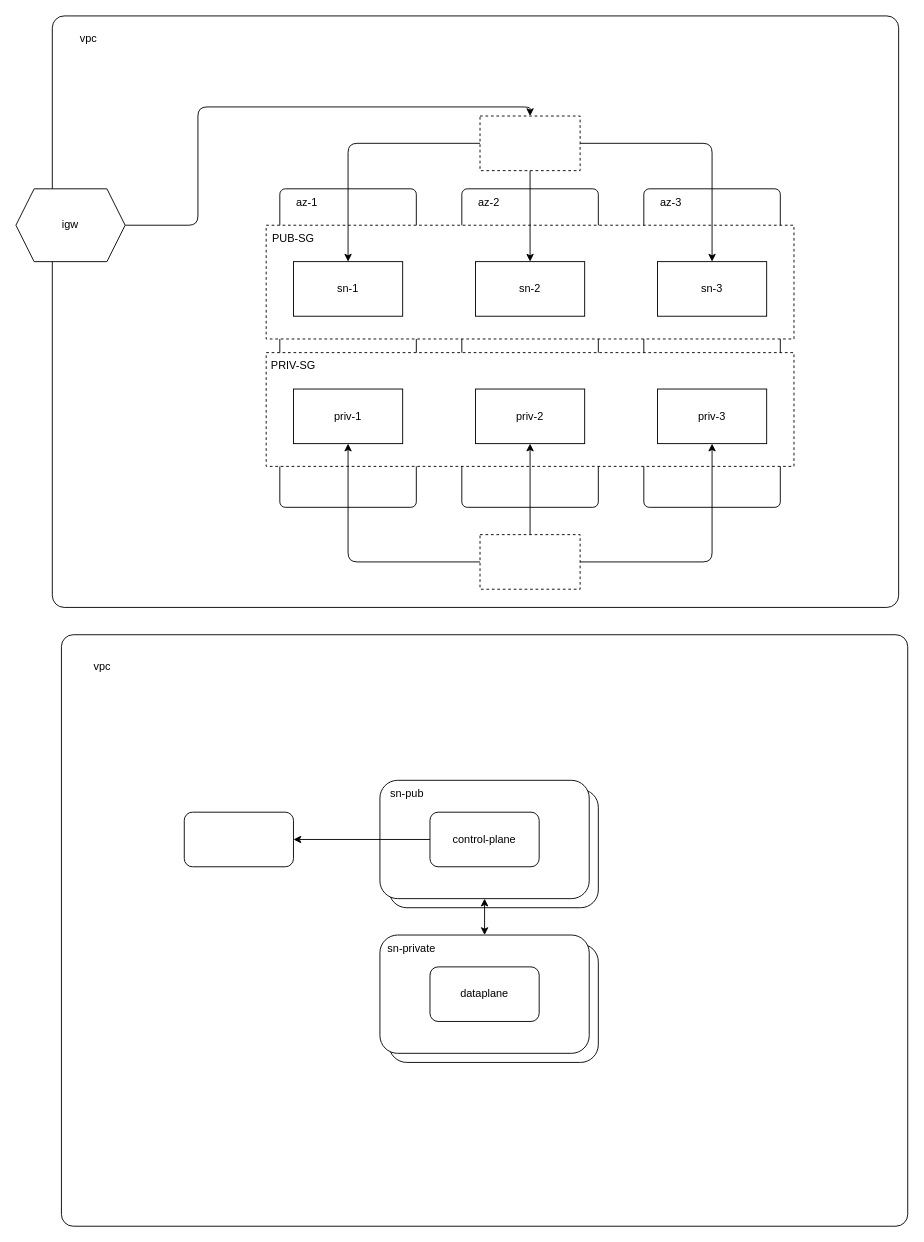
Some shapes in this 924 by 1242 pixel diagram are drawn without their labels. Each missing label, with the centre of its shape:
elastic-ip: point (238, 839)
priv-rt: point (529, 561)
pub-rt: point (529, 143)
